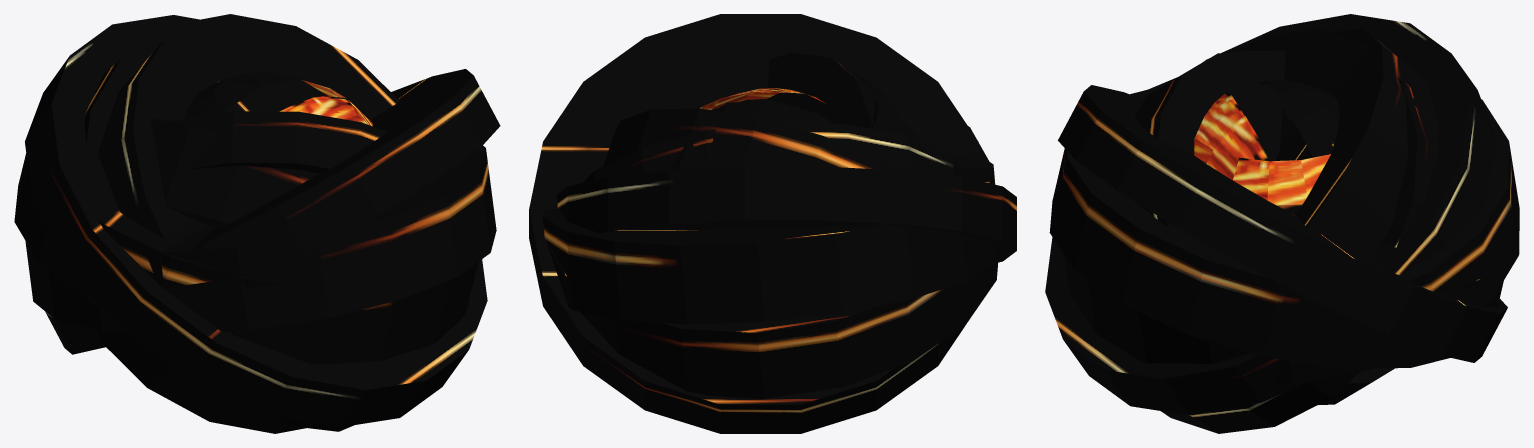
The model's file is frame_052.obj.
3 views of the same model, side by side, from view 1: azimuth 30°, elevation 25°; view 2: azimuth 150°, elevation 25°; view 3: azimuth 270°, elevation 25° (orthographic). The views are drawn at different scales.
Visible parts, largest first — view 1: cylinder, sphere; view 2: cylinder, sphere; view 3: cylinder, sphere.
Boxes of the visible parts, left/top/right/bottom form: cylinder: left=14, top=14, right=500, bottom=433; sphere: left=184, top=72, right=372, bottom=126; cylinder: left=529, top=14, right=1016, bottom=433; sphere: left=698, top=88, right=832, bottom=123; cylinder: left=1045, top=14, right=1519, bottom=433; sphere: left=1194, top=80, right=1339, bottom=214.
Bounding box in the file's own units: 1.1 × 0.8038 × 1.06.
5 materials, 5 textured.
